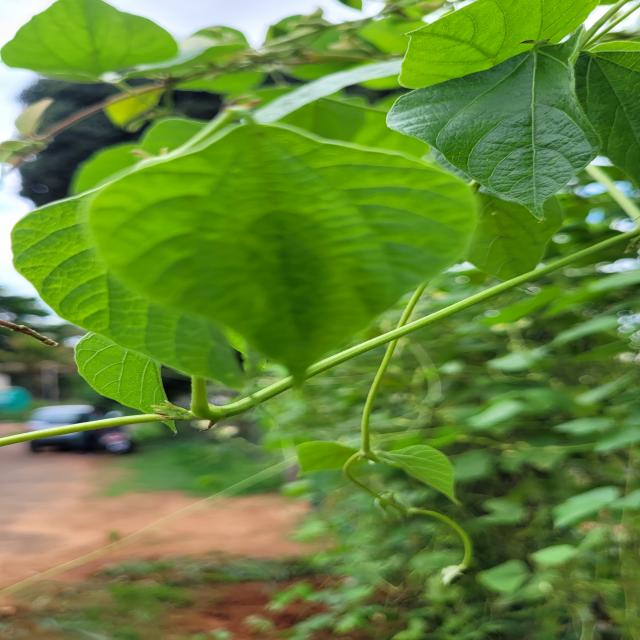Dolicos bean_healthy: (91, 110, 481, 393), (3, 154, 418, 391), (390, 35, 626, 208), (0, 0, 179, 90)
